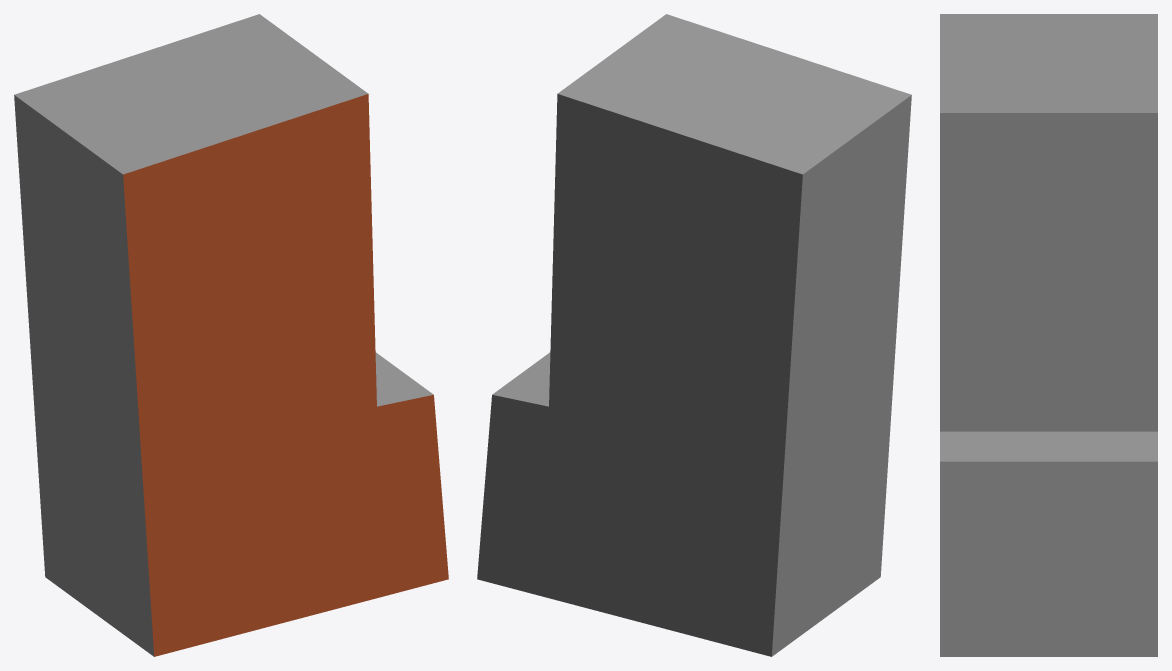
File: construction_6839_assumed_A_Casa_h6m.obj
3 views of the same model, side by side, from view 1: azimuth 30°, elevation 25°; view 2: azimuth 150°, elevation 25°; view 3: azimuth 270°, elevation 25° (orthographic).
Parts seen in each view (by area): view 1: construction_6839_assumed_A_Casa; view 2: construction_6839_assumed_A_Casa; view 3: construction_6839_assumed_A_Casa.
Part boxes in pixels (x1,y1,x2,y2): construction_6839_assumed_A_Casa: (14,14,448,656); construction_6839_assumed_A_Casa: (477,14,911,656); construction_6839_assumed_A_Casa: (940,14,1157,656).
Size of the model in its own units: 10.35 by 15.51 by 6.
